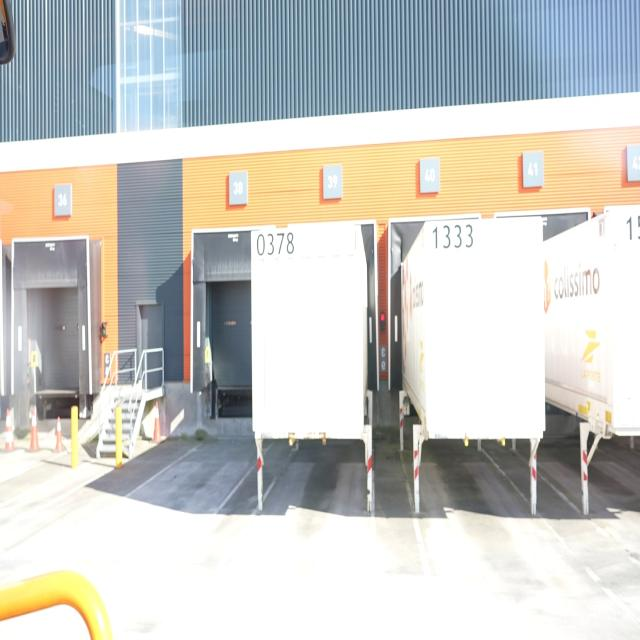Code: (432, 220, 475, 254), (255, 228, 296, 258)
